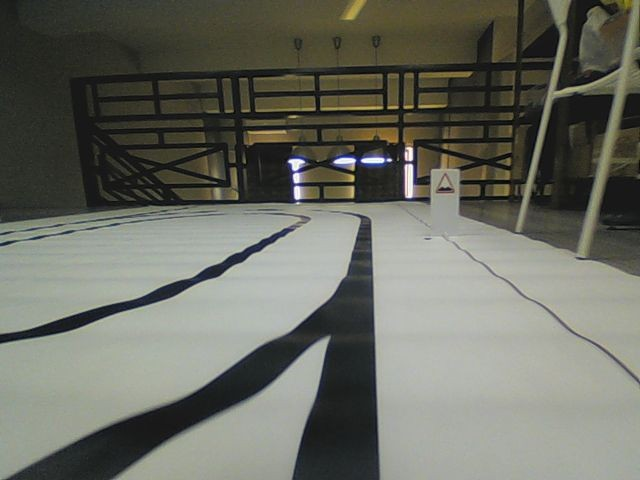Nerov: (434, 172, 456, 195)
